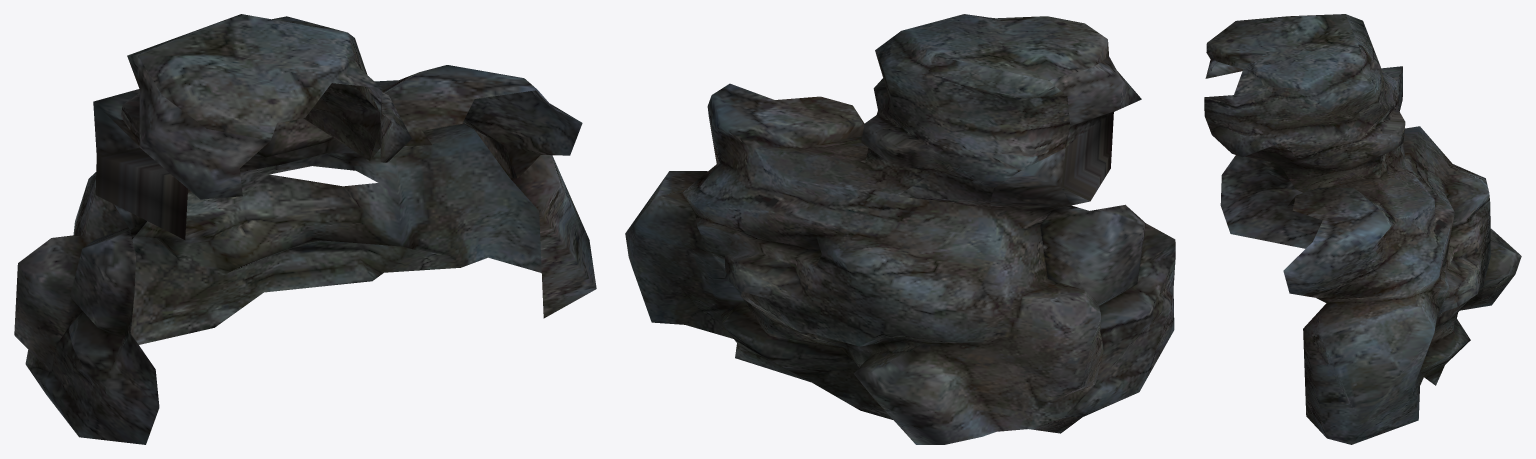
Rendered from S_Rock_Yellow034_H04.FBX.
3 renders of one model, left to right at view 1: azimuth 30°, elevation 25°; view 2: azimuth 150°, elevation 25°; view 3: azimuth 270°, elevation 25°, orthographic. The views are drawn at different scales.
Visible parts, largest first — view 1: S_Rock_Yellow034_H04; view 2: S_Rock_Yellow034_H04; view 3: S_Rock_Yellow034_H04.
Boxes of the visible parts, box(x1,y1,x2,y2) form: S_Rock_Yellow034_H04: box(14, 14, 596, 444); S_Rock_Yellow034_H04: box(625, 14, 1175, 444); S_Rock_Yellow034_H04: box(1204, 14, 1521, 444).
Size of the model in its own units: 1697 by 1101 by 1116.
Materials: 1 (1 with a texture image).
